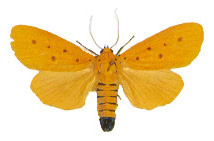Agape chloropyga: (7, 9, 204, 134)
moth: (9, 8, 206, 133)
